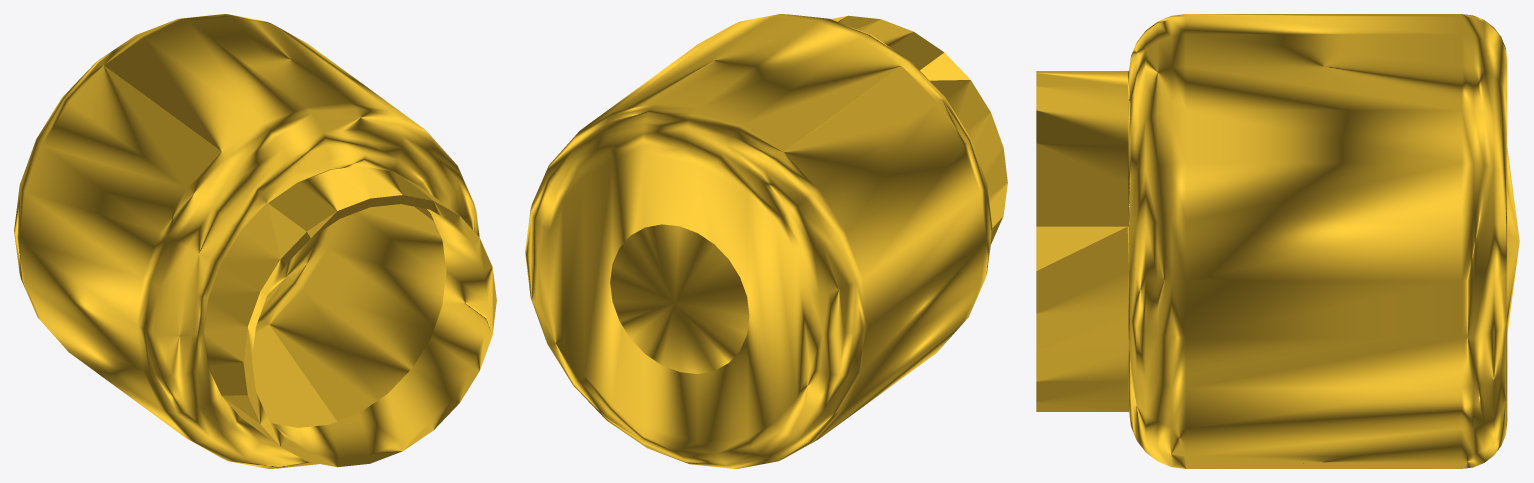
The model's file is model_align.obj.
The picture shows the model from 3 angles, left to right: view 1: azimuth 30°, elevation 25°; view 2: azimuth 150°, elevation 25°; view 3: azimuth 270°, elevation 25°; orthographic projection. The views are drawn at different scales.
Bounding box in the file's own units: 0.1182 × 0.1182 × 0.1251.
